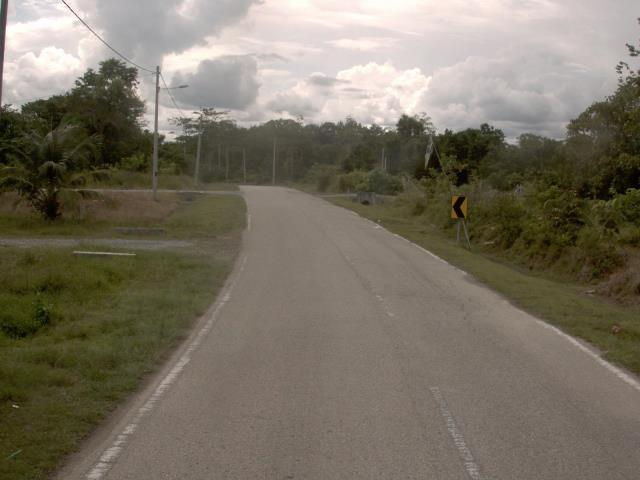traffic_sign: (445, 190, 471, 225)
